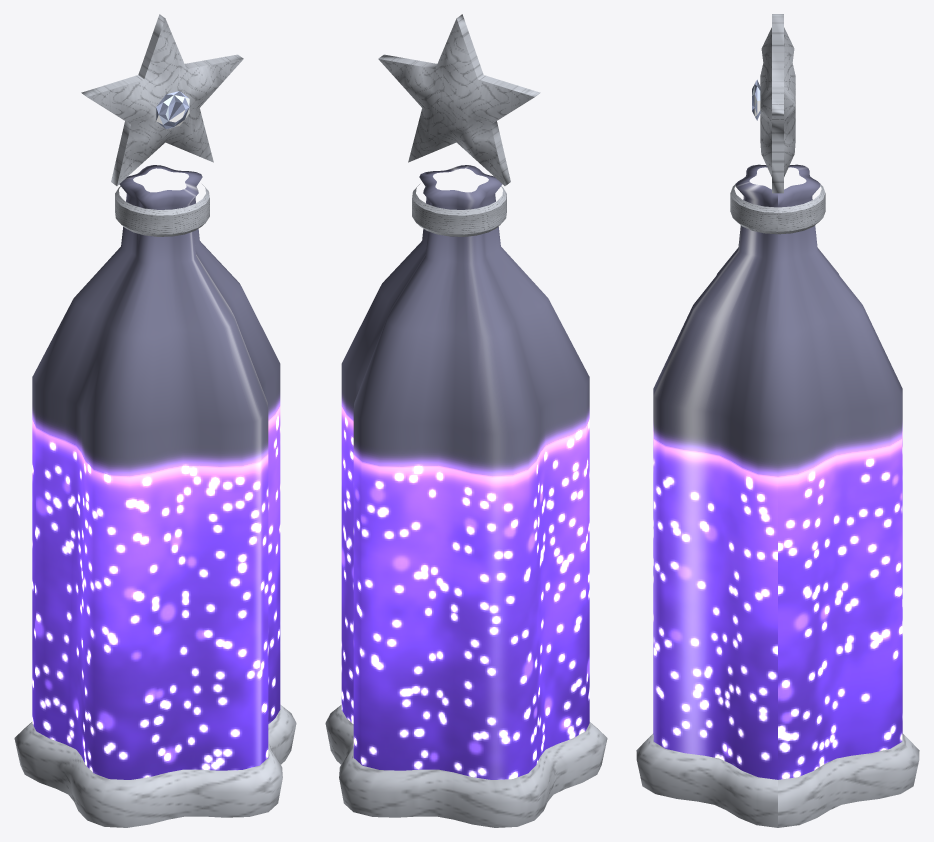
The model's file is StarlightElixir.glb.
3 views of the same model, side by side, from view 1: azimuth 30°, elevation 25°; view 2: azimuth 150°, elevation 25°; view 3: azimuth 270°, elevation 25° (orthographic).
Parts seen in each view (by area): view 1: StarlightElixir; view 2: StarlightElixir; view 3: StarlightElixir.
Part boxes in pixels (x1,y1,x2,y2): StarlightElixir: (14, 14, 296, 827); StarlightElixir: (325, 14, 607, 827); StarlightElixir: (636, 14, 919, 827).
Bounding box in the file's own units: 0.4649 × 1.4 × 0.4765.
Materials: 1 (1 with a texture image).
